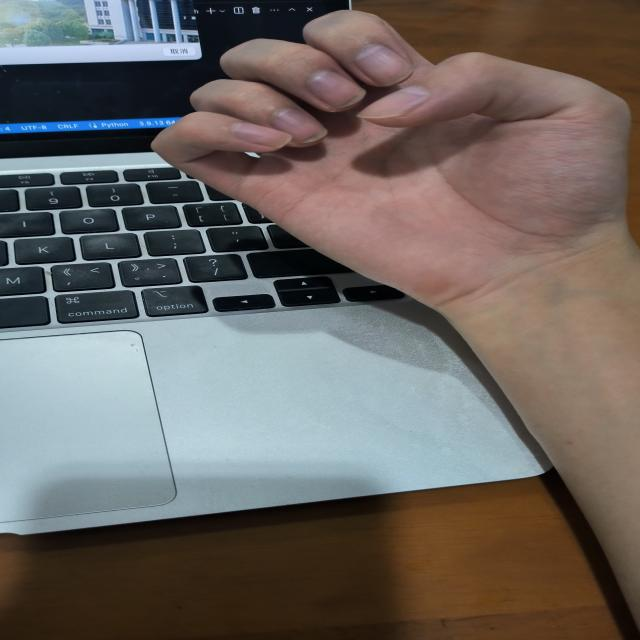Nail: (353, 45, 413, 86), (357, 86, 430, 118), (309, 71, 367, 108), (270, 108, 329, 143), (232, 123, 292, 148)
